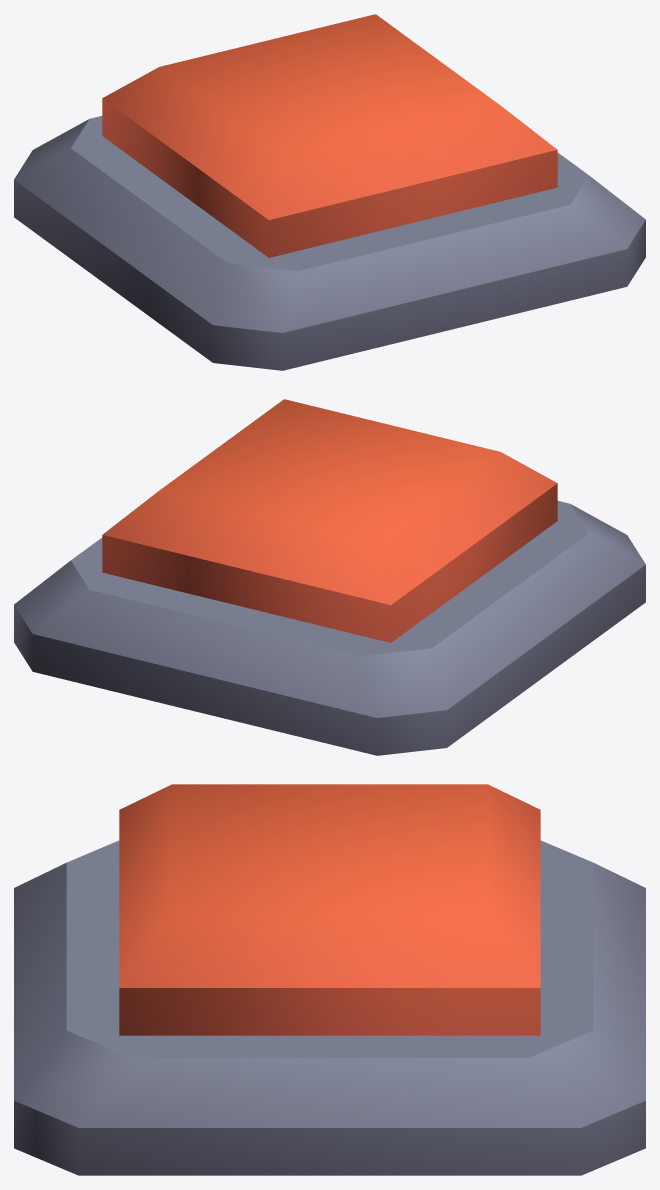
The model's file is button-square.glb.
3 renders of one model, top to bottom at view 1: azimuth 30°, elevation 25°; view 2: azimuth 150°, elevation 25°; view 3: azimuth 270°, elevation 25°, orthographic. The views are drawn at different scales.
Parts seen in each view (by area): view 1: button-square, button; view 2: button-square, button; view 3: button-square, button.
Boxes of the visible parts, x1,y1,x2,y2 form: button-square: (14,116,645,370); button: (102,14,557,257); button-square: (14,501,645,755); button: (102,399,557,642); button-square: (14,840,645,1175); button: (119,784,540,1035).
Size of the model in its own units: 0.6 by 0.2 by 0.6.
Materials: 1 (1 with a texture image).
